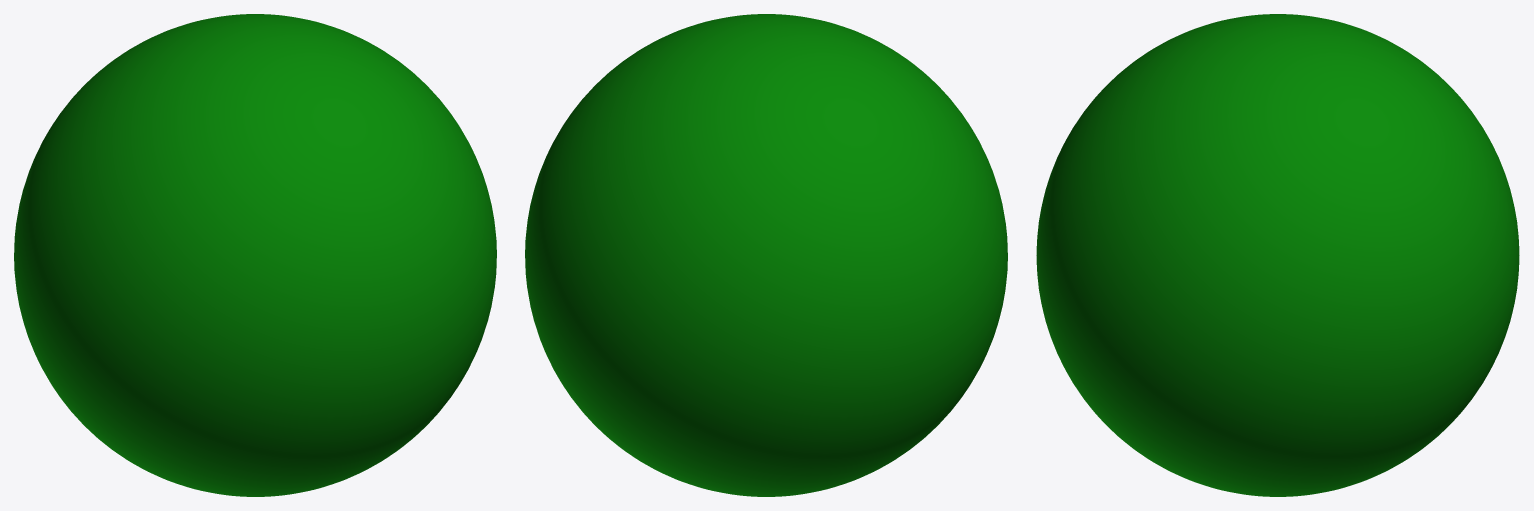
File: ball.obj
3 renders of one model, left to right at view 1: azimuth 30°, elevation 25°; view 2: azimuth 150°, elevation 25°; view 3: azimuth 270°, elevation 25°, orthographic.
Visible parts, largest first — view 1: Layer0_001; view 2: Layer0_001; view 3: Layer0_001.
Part boxes in pixels (x1,y1,x2,y2): Layer0_001: (14,14,496,496); Layer0_001: (525,14,1007,496); Layer0_001: (1036,14,1519,496).
Bounding box in the file's own units: 128 × 128 × 128.
